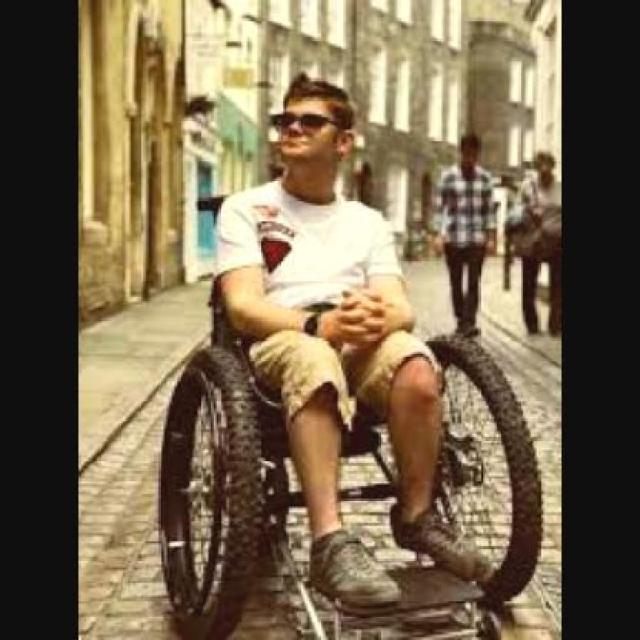wheelchairs: (161, 320, 526, 640)
